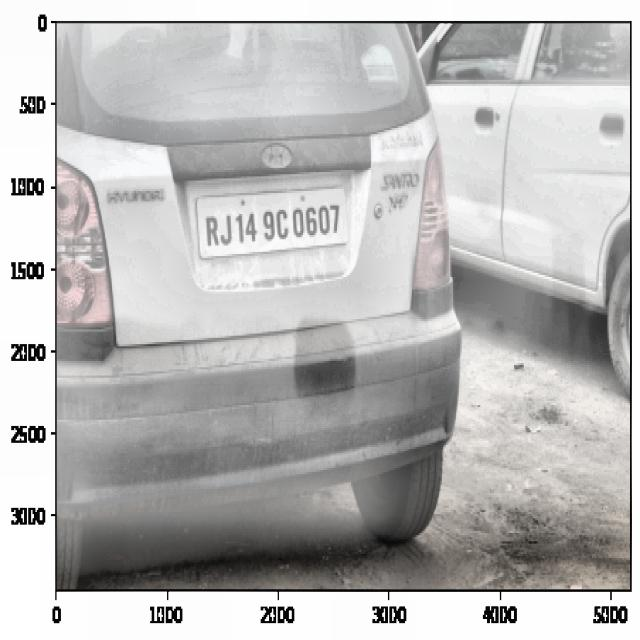license_plate: (198, 198, 344, 252)
